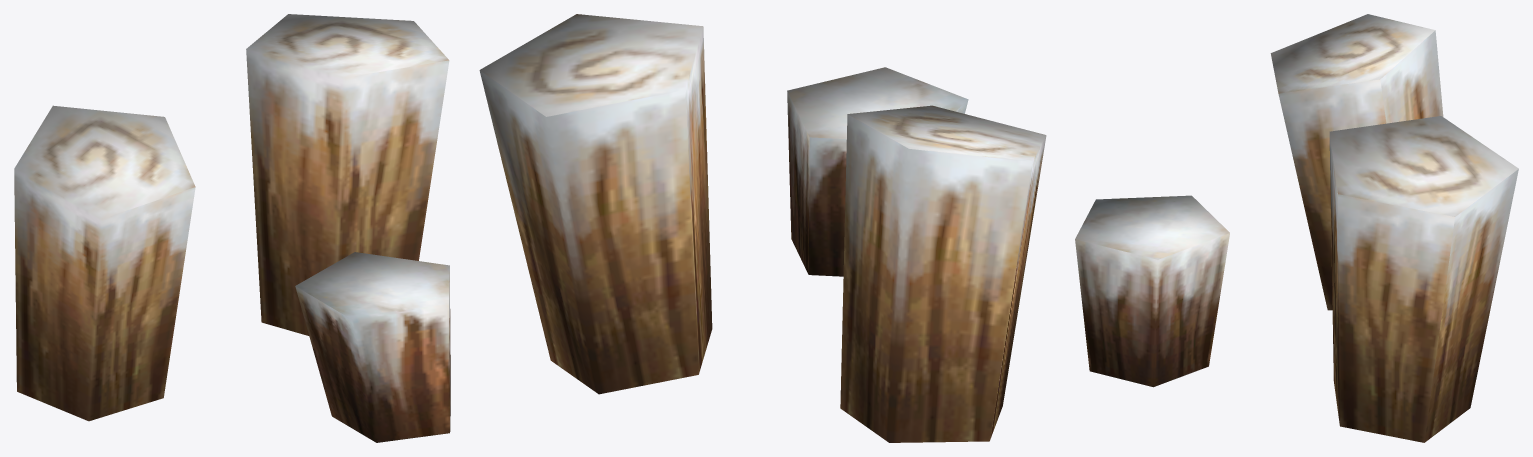
The model's file is SM_Enclosure_19.fbx.
3 views of the same model, side by side, from view 1: azimuth 30°, elevation 25°; view 2: azimuth 150°, elevation 25°; view 3: azimuth 270°, elevation 25° (orthographic). The views are drawn at different scales.
Visible parts, largest first — view 1: SM_Enclosure_19; view 2: SM_Enclosure_19; view 3: SM_Enclosure_19.
Part boxes in pixels (left/top/right/bottom): SM_Enclosure_19: left=14, top=14, right=450, bottom=442; SM_Enclosure_19: left=479, top=14, right=1046, bottom=442; SM_Enclosure_19: left=1075, top=14, right=1518, bottom=442.
Size of the model in its own units: 1.21 by 0.7308 by 1.09.
